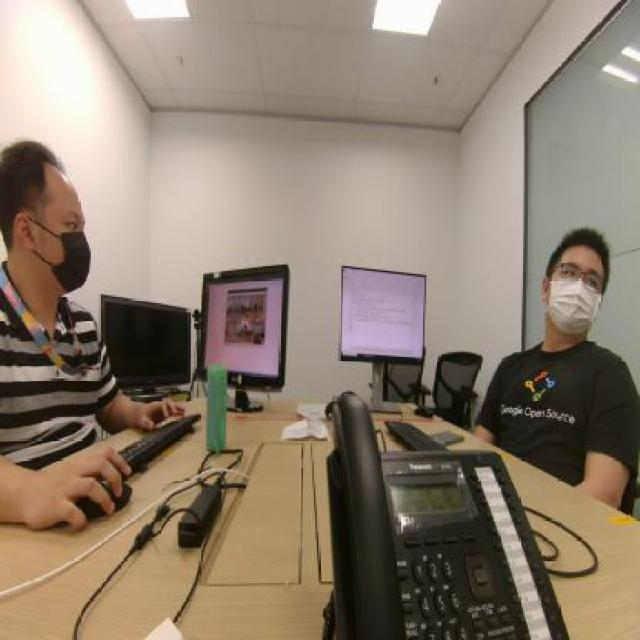Person: (0, 117, 123, 434), (520, 192, 628, 450)
